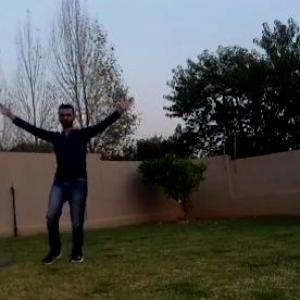takeoff: (1, 95, 138, 264)
